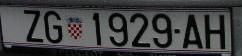-: (174, 28, 181, 34)
1: (91, 11, 102, 46)
2: (130, 12, 151, 47)
9: (108, 11, 128, 47), (152, 13, 172, 48)
A: (183, 13, 202, 49)
G: (44, 10, 63, 43)
H: (205, 14, 225, 50)
Z: (23, 10, 43, 43)
